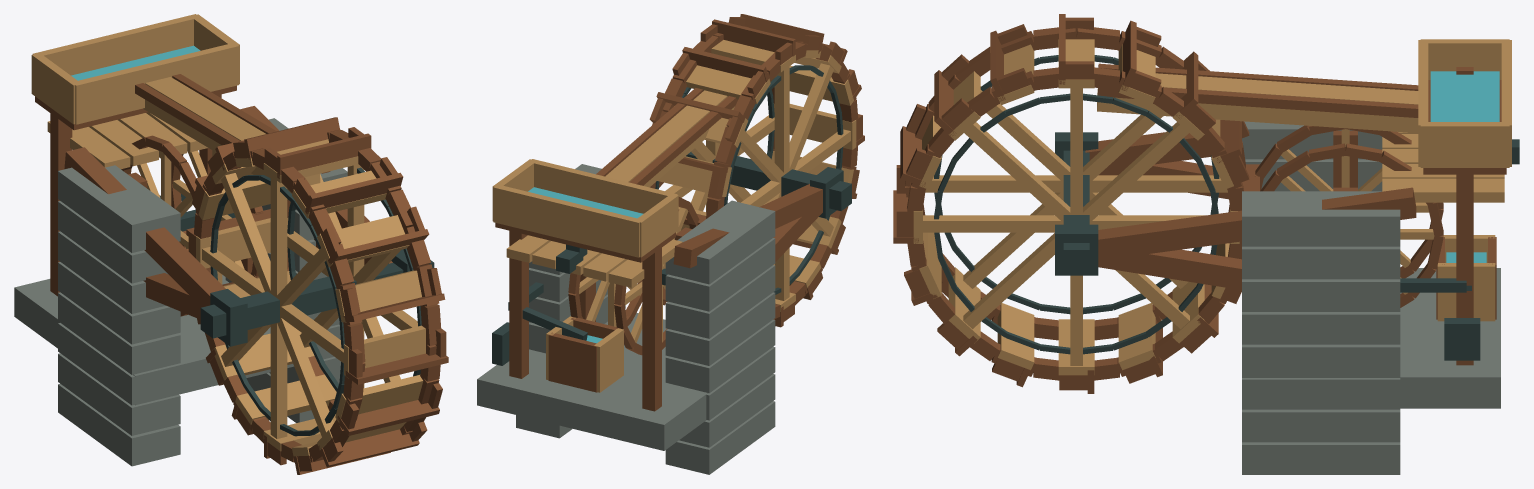
The model's file is waterwheel.glb.
3 views of the same model, side by side, from view 1: azimuth 30°, elevation 25°; view 2: azimuth 150°, elevation 25°; view 3: azimuth 270°, elevation 25° (orthographic). The views are drawn at different scales.
Parts seen in each view (by area): view 1: _MeshInstance3D_220, _MeshInstance3D_203, _MeshInstance3D_9, _MeshInstance3D_202, _MeshInstance3D_18, _MeshInstance3D_5, _MeshInstance3D_2, _MeshInstance3D_3, _MeshInstance3D_6, _MeshInstance3D_206, _MeshInstance3D_22, _MeshInstance3D_4 (+54 smaller); view 2: _MeshInstance3D_220, _MeshInstance3D_202, _MeshInstance3D_9, _MeshInstance3D_203, _MeshInstance3D_199, _MeshInstance3D_7, _MeshInstance3D_8, _MeshInstance3D_6, _MeshInstance3D_5, _MeshInstance3D_206, _MeshInstance3D_2, _MeshInstance3D_200 (+48 smaller); view 3: _MeshInstance3D_220, _MeshInstance3D_17, _MeshInstance3D_206, _MeshInstance3D_20, _MeshInstance3D_11, _MeshInstance3D_13, _MeshInstance3D_16, _MeshInstance3D_10, _MeshInstance3D_14, _MeshInstance3D_15, _MeshInstance3D_12, _MeshInstance3D_205 (+53 smaller).
Boxes of the visible parts, x1,y1,x2,y2 form: _MeshInstance3D_220: [14, 275, 340, 405]; _MeshInstance3D_203: [72, 42, 239, 124]; _MeshInstance3D_9: [58, 165, 180, 252]; _MeshInstance3D_202: [32, 14, 199, 75]; _MeshInstance3D_18: [64, 147, 225, 306]; _MeshInstance3D_5: [58, 292, 180, 374]; _MeshInstance3D_2: [58, 383, 180, 466]; _MeshInstance3D_3: [58, 353, 180, 435]; _MeshInstance3D_6: [58, 262, 180, 344]; _MeshInstance3D_206: [143, 77, 320, 193]; _MeshInstance3D_22: [200, 260, 434, 338]; _MeshInstance3D_4: [58, 323, 180, 405]; _MeshInstance3D_220: [477, 313, 708, 450]; _MeshInstance3D_202: [493, 185, 642, 257]; _MeshInstance3D_9: [665, 200, 775, 284]; _MeshInstance3D_203: [528, 159, 677, 213]; _MeshInstance3D_199: [642, 242, 661, 411]; _MeshInstance3D_7: [665, 265, 775, 338]; _MeshInstance3D_8: [665, 238, 775, 311]; _MeshInstance3D_6: [665, 292, 775, 365]; _MeshInstance3D_5: [665, 319, 775, 393]; _MeshInstance3D_206: [605, 90, 734, 187]; _MeshInstance3D_2: [665, 401, 775, 474]; _MeshInstance3D_200: [509, 230, 528, 378]; _MeshInstance3D_220: [1242, 268, 1500, 408]; _MeshInstance3D_17: [1242, 191, 1400, 246]; _MeshInstance3D_206: [1097, 73, 1418, 132]; _MeshInstance3D_20: [1098, 187, 1416, 260]; _MeshInstance3D_11: [1242, 409, 1400, 442]; _MeshInstance3D_13: [1242, 344, 1400, 377]; _MeshInstance3D_16: [1242, 246, 1400, 279]; _MeshInstance3D_10: [1242, 442, 1400, 474]; _MeshInstance3D_14: [1242, 312, 1400, 344]; _MeshInstance3D_15: [1242, 279, 1400, 311]; _MeshInstance3D_12: [1242, 378, 1400, 409]; _MeshInstance3D_205: [1420, 122, 1509, 167].
Bounding box in the file's own units: 1.9 × 2.92 × 4.35.
